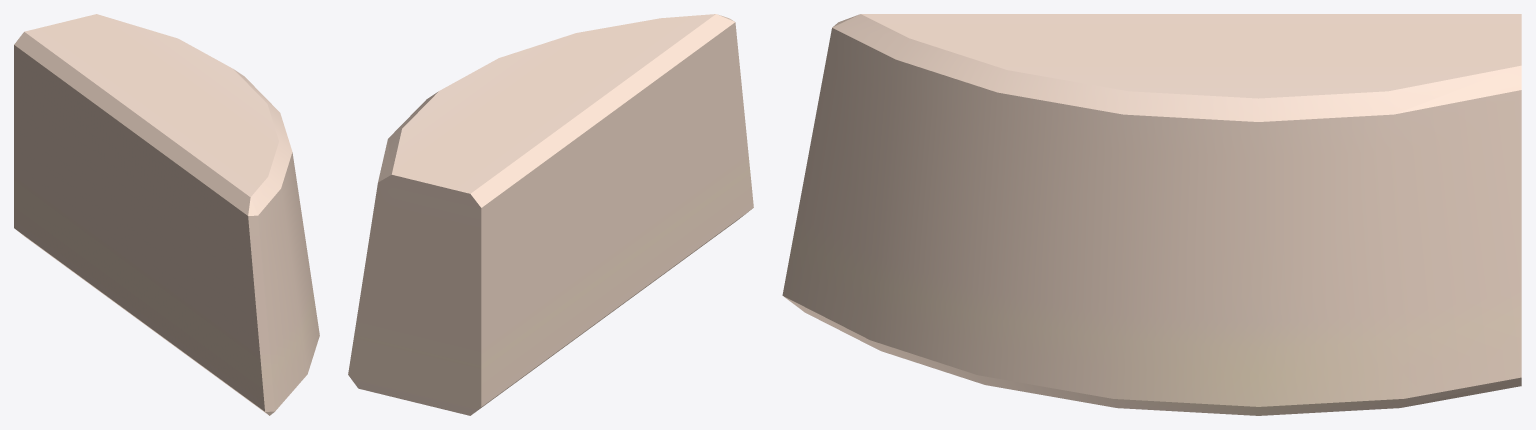
File: 189 fix.fbx
3 renders of one model, left to right at view 1: azimuth 30°, elevation 25°; view 2: azimuth 150°, elevation 25°; view 3: azimuth 270°, elevation 25°, orthographic. The views are drawn at different scales.
Parts seen in each view (by area): view 1: Cube_L2_24; view 2: Cube_L2_24; view 3: Cube_L2_24.
Part boxes in pixels (x1=…): Cube_L2_24: x1=14, y1=14, x2=319, y2=415; Cube_L2_24: x1=348, y1=14, x2=753, y2=415; Cube_L2_24: x1=782, y1=14, x2=1521, y2=415.
Bounding box in the file's own units: 1.45 × 1.72 × 3.87.
Materials: 1 (1 with a texture image).
